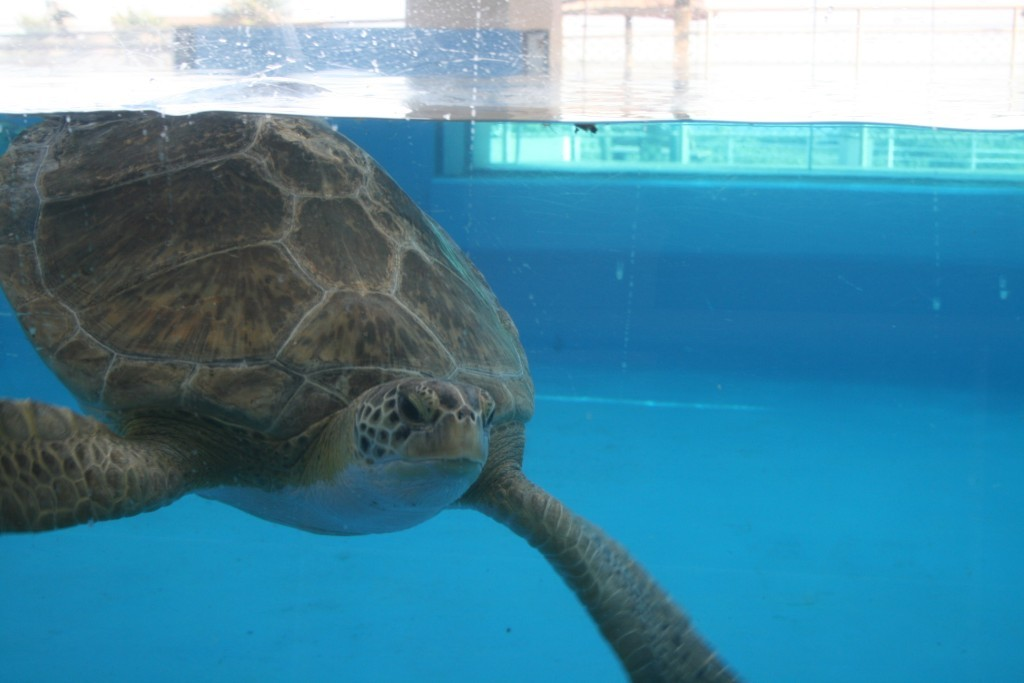Sea turtles: (0, 109, 743, 682)
